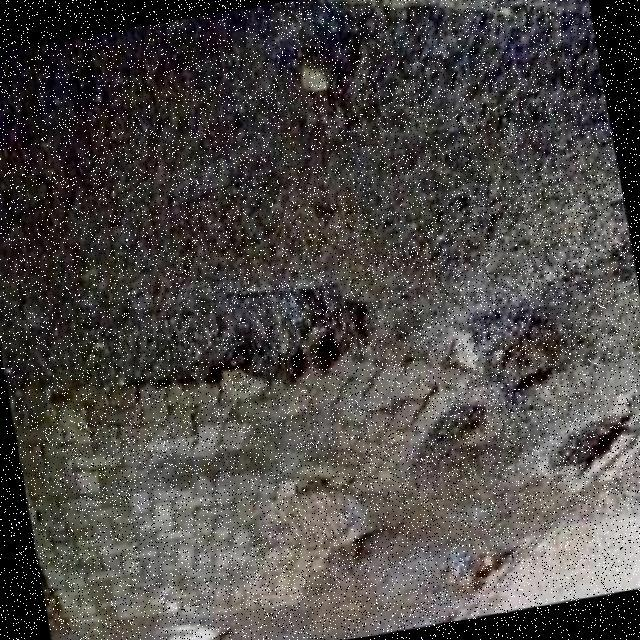Pothole: (7, 286, 367, 393), (441, 307, 586, 393), (550, 413, 631, 478), (441, 551, 512, 593), (335, 508, 385, 564), (429, 401, 486, 445), (160, 622, 219, 640)
